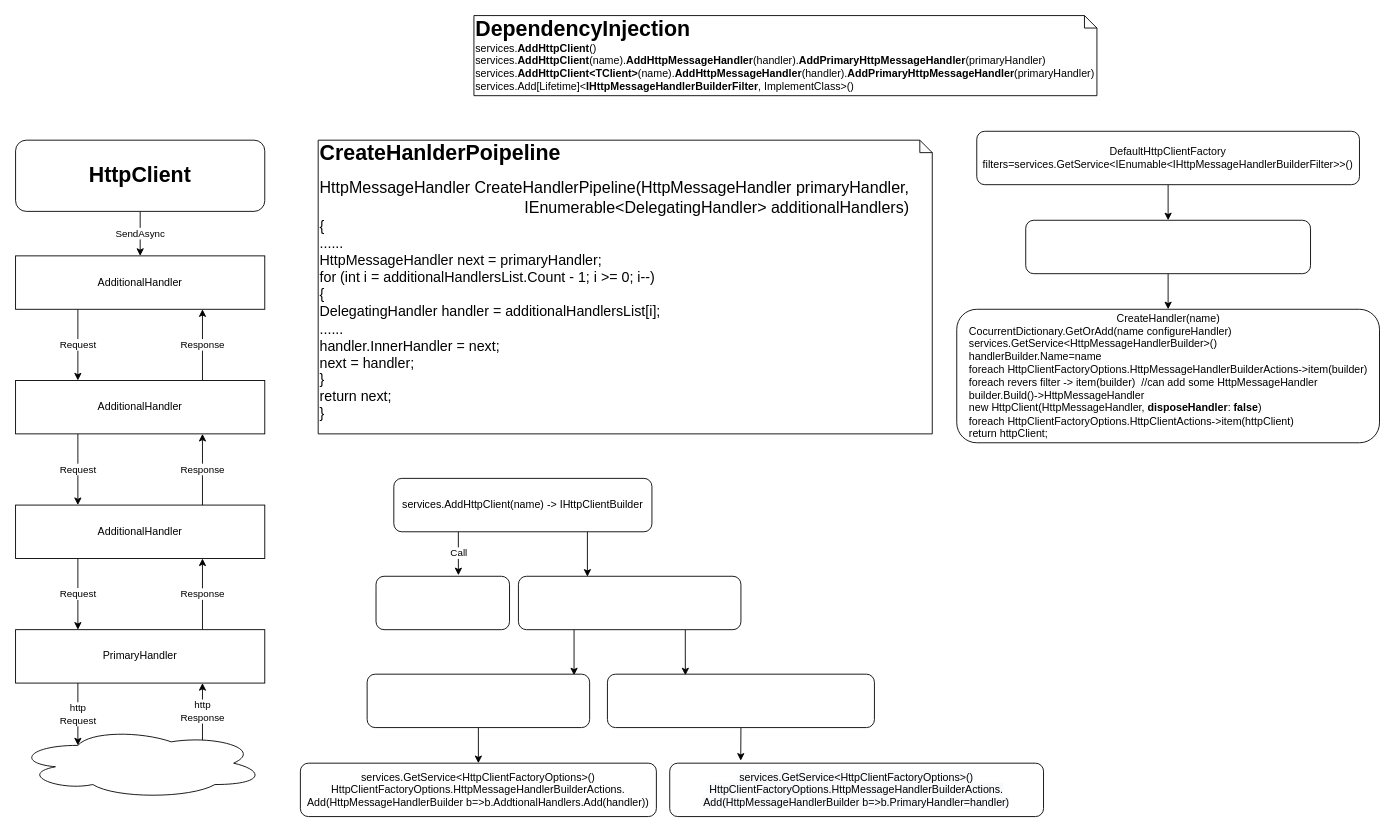
The diagram is 1396 pixels wide and 832 high, and some of its shapes have lost their labels. The box of each missing label's shape, as (x1, y1, x2, y2) in pixels:
CreateClient()->CreateClient(Options.DefaultName) CreateClient(string): (1025, 219, 1311, 274)
HttpServer Nginx/Kestrel: (15, 727, 265, 799)
IHttpClientBuilder.AddHttpMessageHandler(): (366, 673, 590, 728)
IHttpClientBuilder.AddPrimaryHttpMessageHandler(): (607, 673, 874, 728)
new DefaultHttpClientBuilder(services, name): (518, 575, 741, 630)
services.AddHttpClient(): (375, 575, 510, 630)
